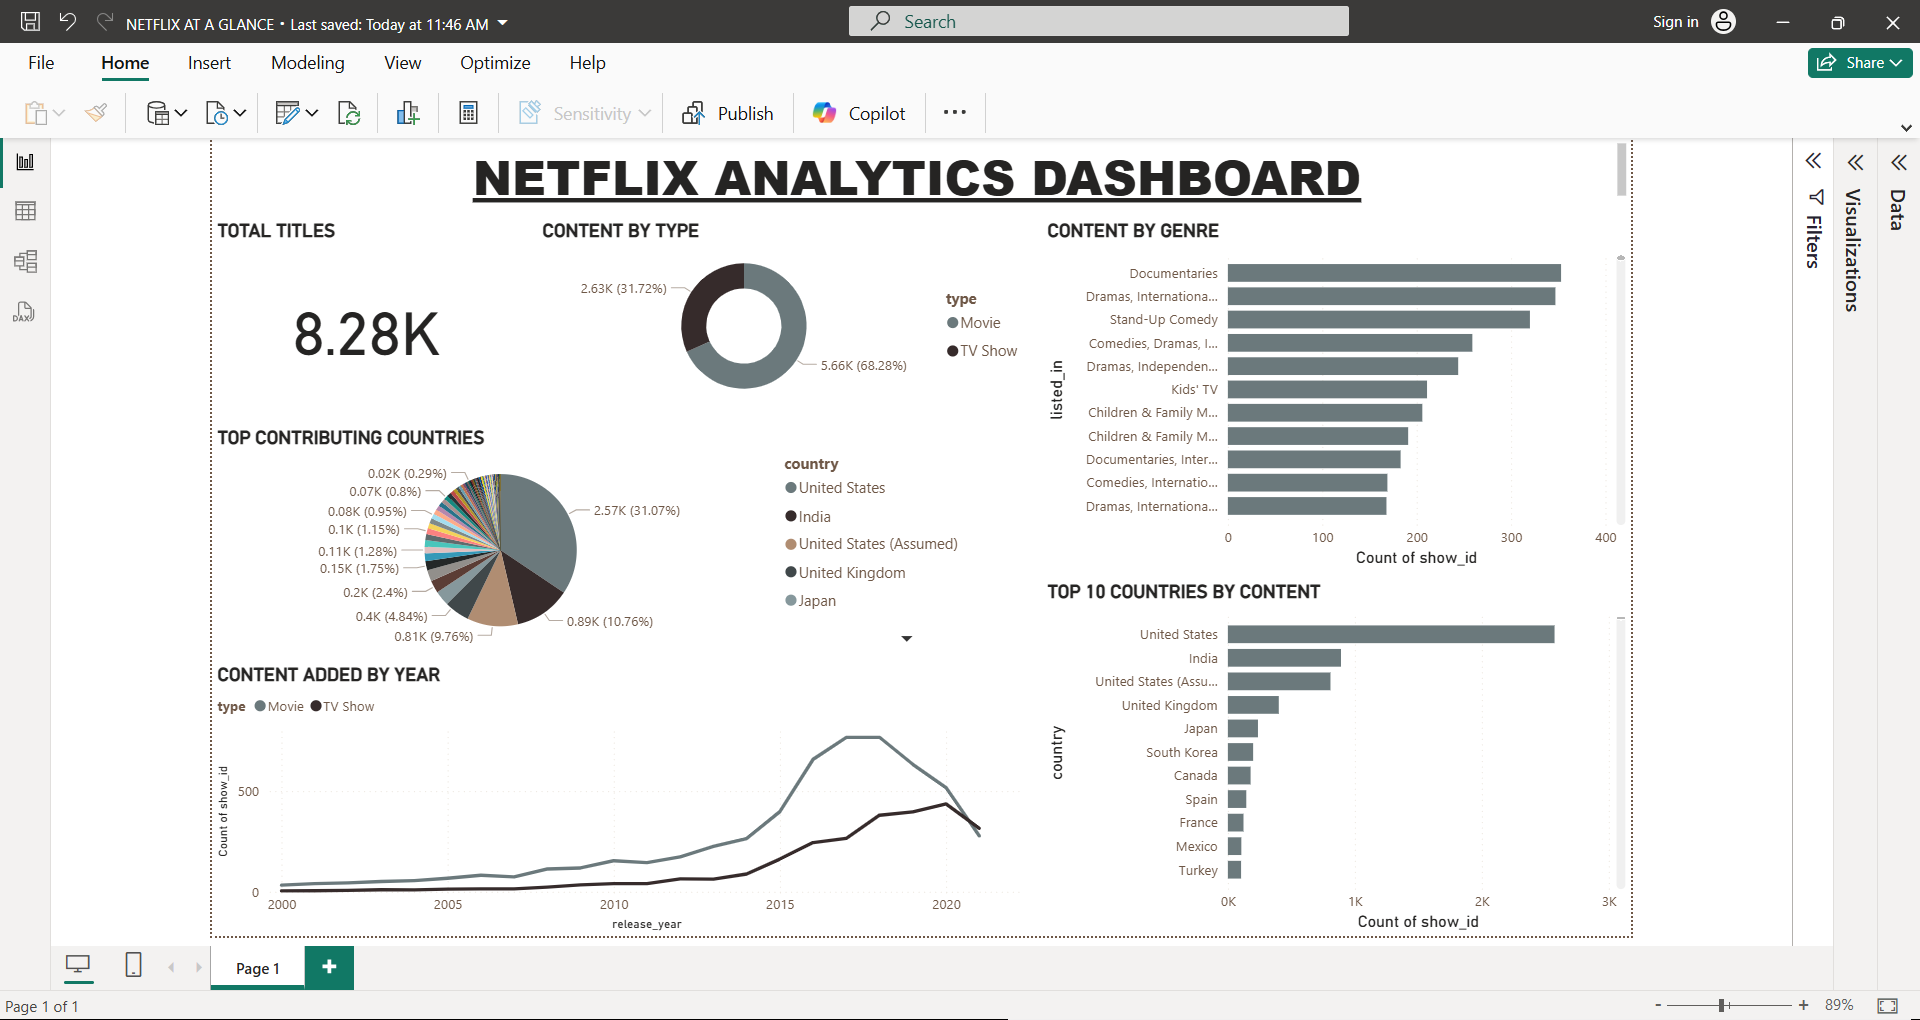

Layout of this report page (visuals, bound fields, positions):
{"tool":"powerbi","page":{"name":"Page 1","canvas":[1280,720],"ordinal":0},"visuals":[{"type":"donutChart","title":"CONTENT BY TYPE","fields":{"Category":["netflix_titles.type"],"Y":["CountNonNull(netflix_titles.show_id)"]},"box":[292.5,73.8,447.5,173.8],"z":0},{"type":"lineChart","title":"CONTENT ADDED BY YEAR","fields":{"Category":["netflix_titles.release_year"],"Y":["CountNonNull(netflix_titles.show_id)"],"Series":["netflix_titles.type"]},"box":[0,473.8,740,246.2],"z":1000},{"type":"barChart","title":"TOP 10 COUNTRIES BY CONTENT","fields":{"Y":["CountNonNull(netflix_titles.show_id)"],"Category":["netflix_titles.country"]},"box":[748.8,398.8,531.2,321.2],"z":2000},{"type":"card","title":"TOTAL TITLES","fields":{"Values":["CountNonNull(netflix_titles.title)"]},"box":[0,73.8,278.8,173.8],"z":3000},{"type":"textbox","box":[0,0,1280,63.8],"z":4000},{"type":"barChart","title":"CONTENT BY GENRE","fields":{"Category":["netflix_titles.listed_in"],"Y":["CountNonNull(netflix_titles.show_id)"]},"box":[748.8,73.8,531.2,318.8],"z":4001},{"type":"pieChart","title":"TOP CONTRIBUTING COUNTRIES","fields":{"Category":["netflix_titles.country"],"Y":["CountNonNull(netflix_titles.show_id)"]},"box":[0,260,740,203.8],"z":4002}]}

Visuals, with their boxes on the page's 1280x720 design canvas (x1, y1, x2, y2). These are canvas units, not pixel positions in the 1920x1020 screenshot, which may show the page scaled, cropped or inside an application window:
"CONTENT BY TYPE" donutChart: {"x1": 292, "y1": 74, "x2": 740, "y2": 248}
"CONTENT ADDED BY YEAR" lineChart: {"x1": 0, "y1": 474, "x2": 740, "y2": 720}
"TOP 10 COUNTRIES BY CONTENT" barChart: {"x1": 749, "y1": 399, "x2": 1280, "y2": 720}
"TOTAL TITLES" card: {"x1": 0, "y1": 74, "x2": 279, "y2": 248}
textbox: {"x1": 0, "y1": 0, "x2": 1280, "y2": 64}
"CONTENT BY GENRE" barChart: {"x1": 749, "y1": 74, "x2": 1280, "y2": 393}
"TOP CONTRIBUTING COUNTRIES" pieChart: {"x1": 0, "y1": 260, "x2": 740, "y2": 464}
